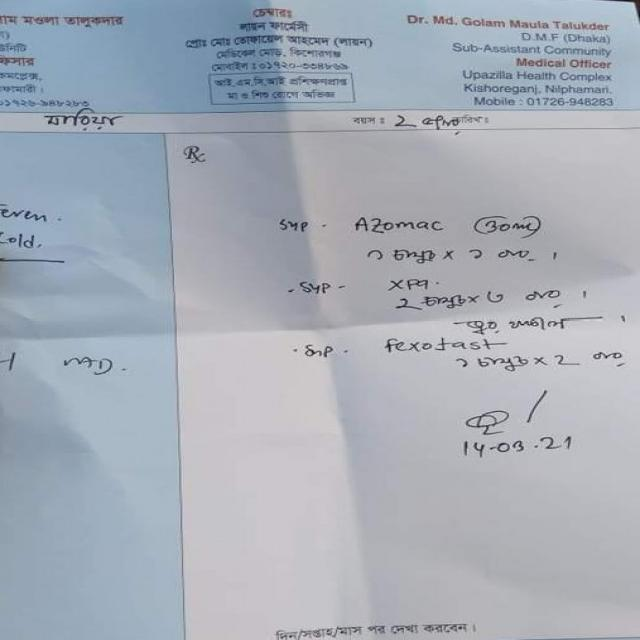Azomac: (349, 211, 452, 238)
Fexofast: (381, 334, 503, 357)
Xpa XR: (381, 272, 452, 295)
